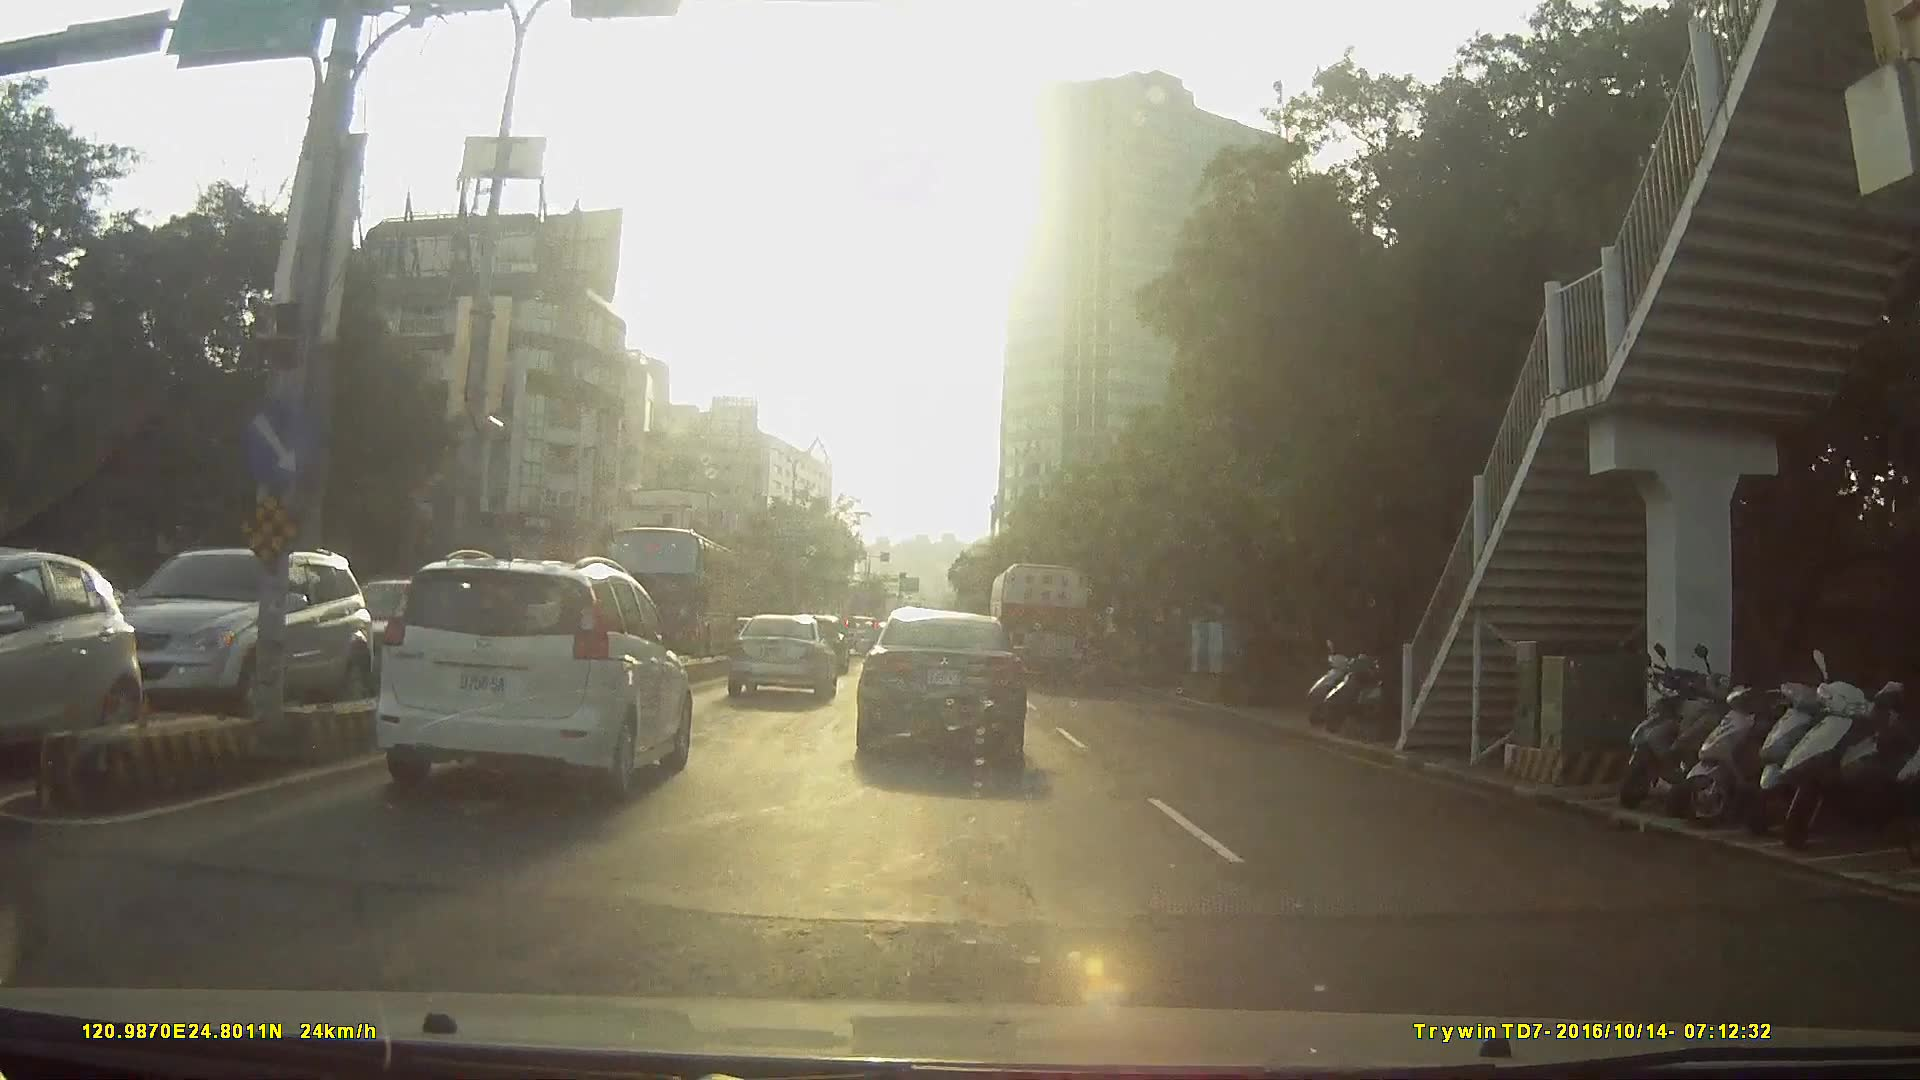vehicle: (251, 556, 684, 868), (376, 547, 694, 799), (88, 533, 394, 729), (855, 600, 1029, 769), (595, 522, 736, 662), (0, 551, 92, 753), (988, 560, 1093, 688), (727, 613, 837, 705), (837, 613, 885, 655)
